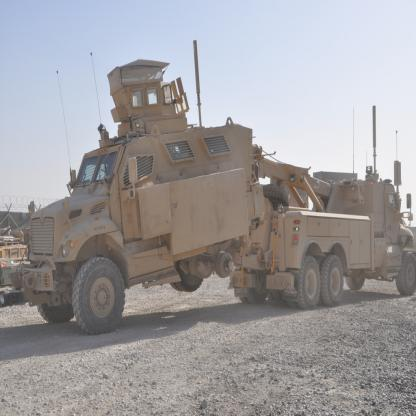Truck: (8, 40, 276, 335), (227, 105, 415, 310)
